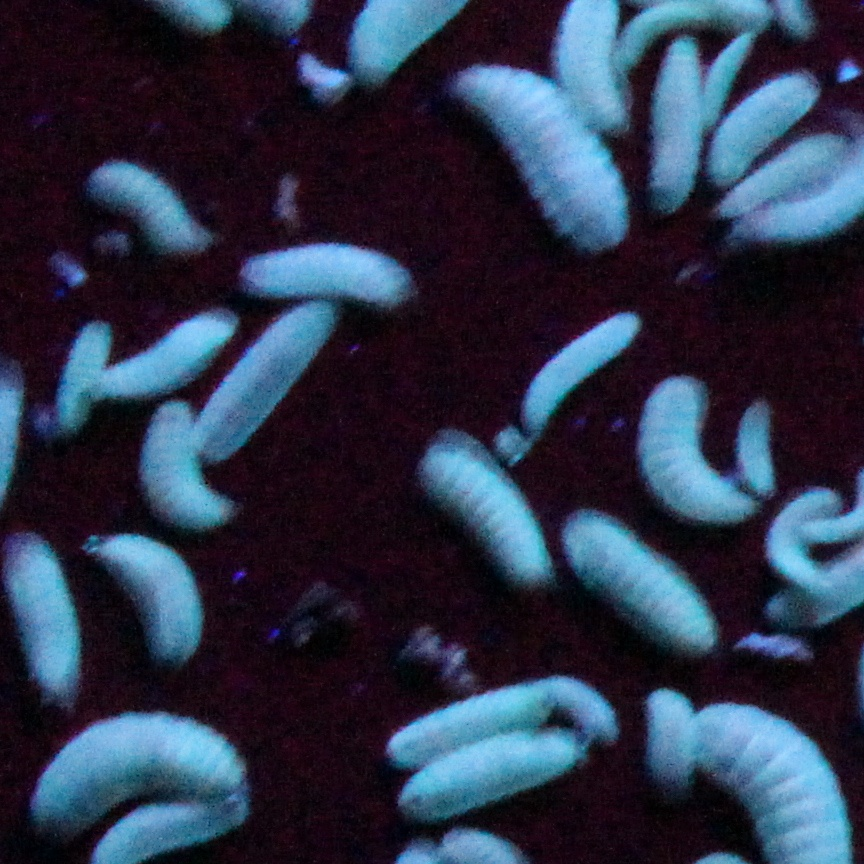larve: (455, 69, 613, 238), (208, 296, 336, 449), (27, 711, 231, 807), (379, 672, 599, 760), (424, 432, 545, 585), (563, 512, 708, 636), (372, 735, 581, 811), (515, 299, 627, 439), (86, 303, 238, 398), (645, 380, 745, 521), (621, 43, 695, 222), (695, 75, 811, 189), (93, 523, 196, 651), (84, 159, 206, 263), (135, 390, 227, 526), (9, 540, 80, 682), (717, 132, 841, 213), (685, 26, 751, 145), (756, 481, 832, 582), (257, 258, 409, 304), (636, 688, 714, 773), (55, 314, 110, 427), (729, 406, 782, 499)
